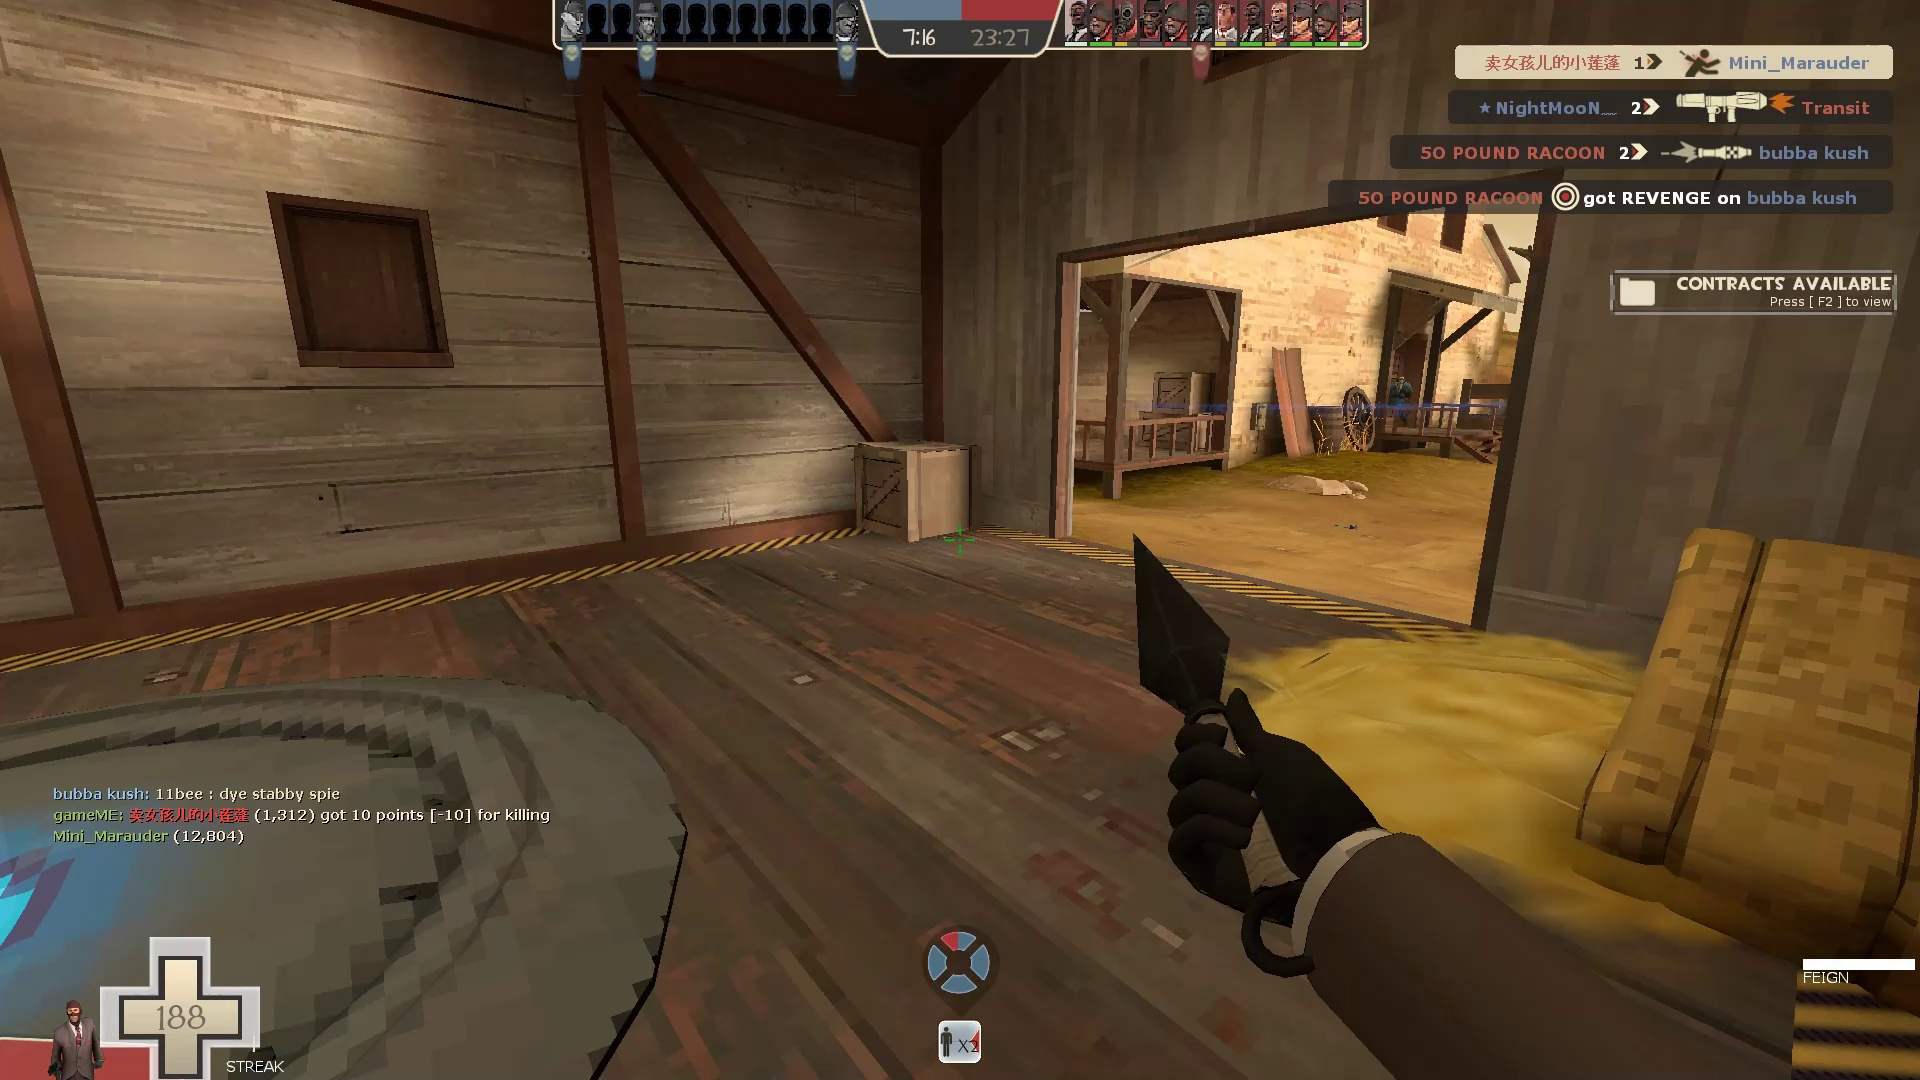blu_pyro: (1383, 371, 1418, 427)
